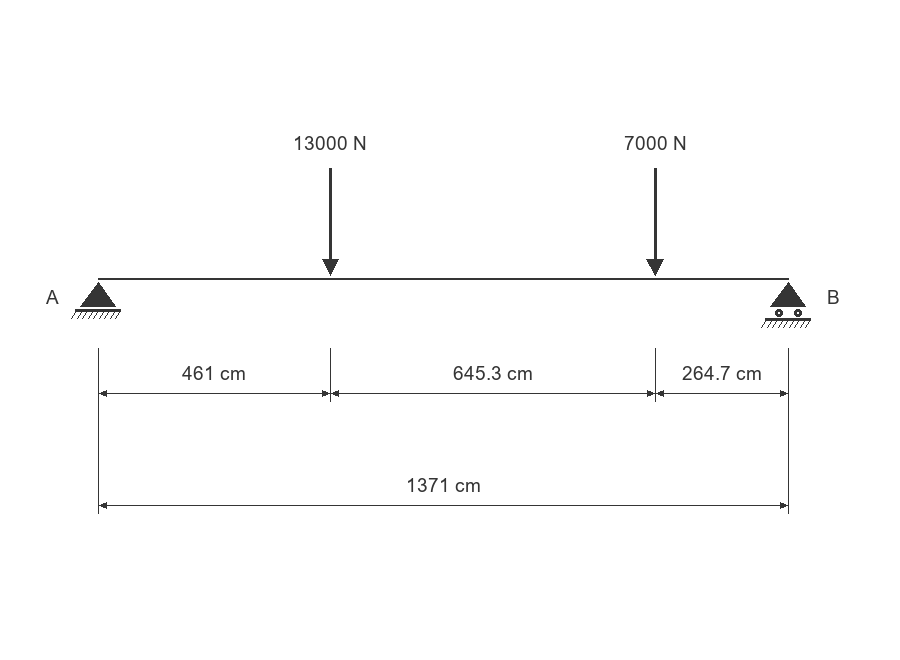pin_support: (71, 282, 121, 319)
point_load: (646, 168, 664, 276), (322, 168, 339, 276)
roller_support: (761, 282, 811, 328)
